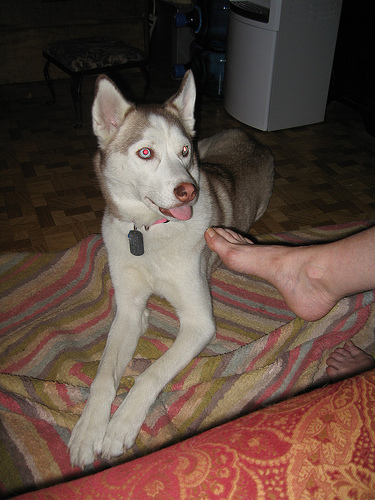dog: (67, 71, 276, 466)
